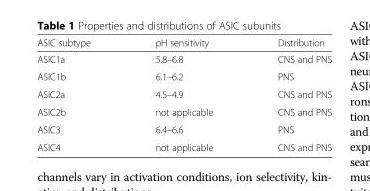table: (36, 36, 331, 152)
table column: (122, 36, 244, 152), (244, 36, 331, 152), (36, 36, 122, 152)
table column header: (36, 36, 331, 50)
table row: (36, 67, 331, 85), (36, 102, 331, 120), (36, 120, 331, 138), (36, 50, 331, 67), (36, 85, 331, 102), (36, 36, 331, 50), (36, 138, 331, 152)
